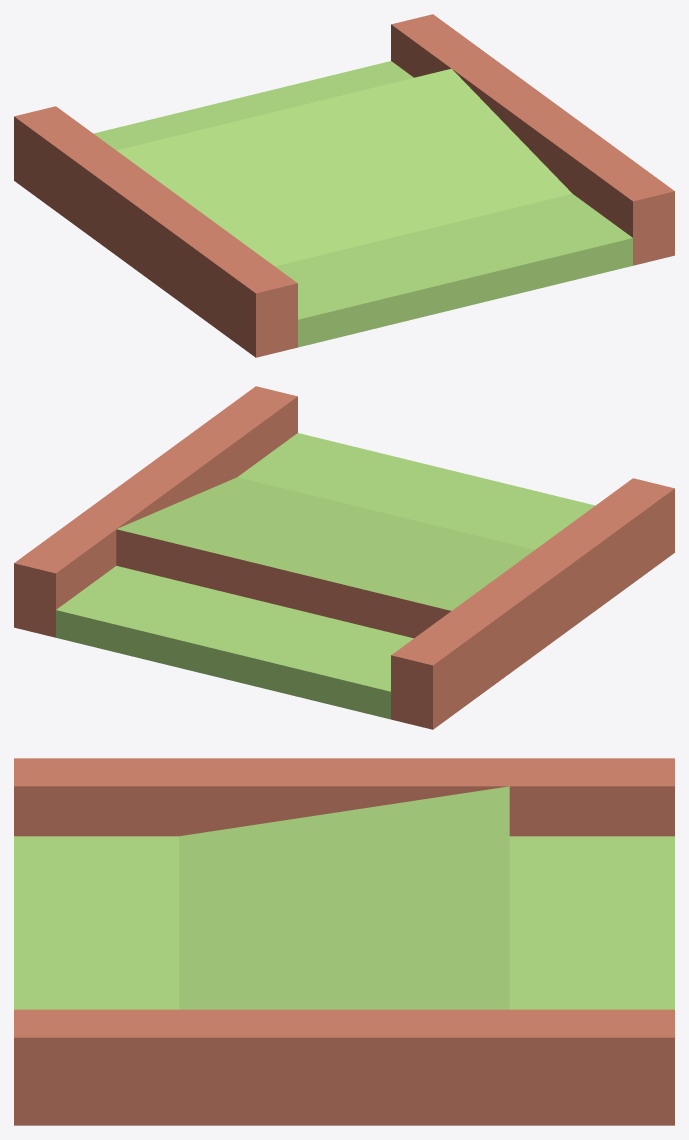
Rendered from Ramp_sharp_01.glb.
3 renders of one model, top to bottom at view 1: azimuth 30°, elevation 25°; view 2: azimuth 150°, elevation 25°; view 3: azimuth 270°, elevation 25°, orthographic. The views are drawn at different scales.
Parts seen in each view (by area): view 1: Mesh1 Ramp_sharp Model; view 2: Mesh1 Ramp_sharp Model; view 3: Mesh1 Ramp_sharp Model.
Part boxes in pixels (box(x1,y1,x2,y2)): Mesh1 Ramp_sharp Model: box(14, 14, 674, 357); Mesh1 Ramp_sharp Model: box(14, 386, 674, 729); Mesh1 Ramp_sharp Model: box(14, 758, 674, 1125).
Bounding box in the file's own units: 3 × 0.44 × 3.
